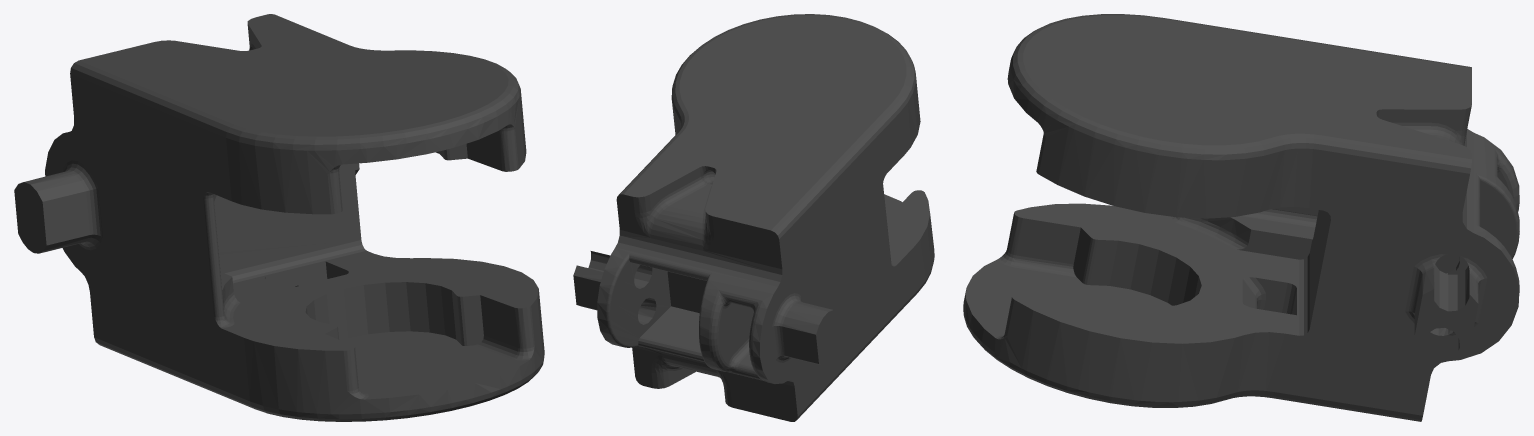
Rendered from lh_pinky_metacarpals_vis.obj.
3 views of the same model, side by side, from view 1: azimuth 30°, elevation 25°; view 2: azimuth 150°, elevation 25°; view 3: azimuth 270°, elevation 25° (orthographic). The views are drawn at different scales.
Parts seen in each view (by area): view 1: lh_pinky_metacarpals; view 2: lh_pinky_metacarpals; view 3: lh_pinky_metacarpals.
Part boxes in pixels (x1,y1,x2,y2): lh_pinky_metacarpals: (14, 14, 544, 421); lh_pinky_metacarpals: (573, 14, 934, 421); lh_pinky_metacarpals: (963, 14, 1519, 421).
Size of the model in its own units: 0.0202 by 0.0201 by 0.0304.
1 material, 1 textured.
